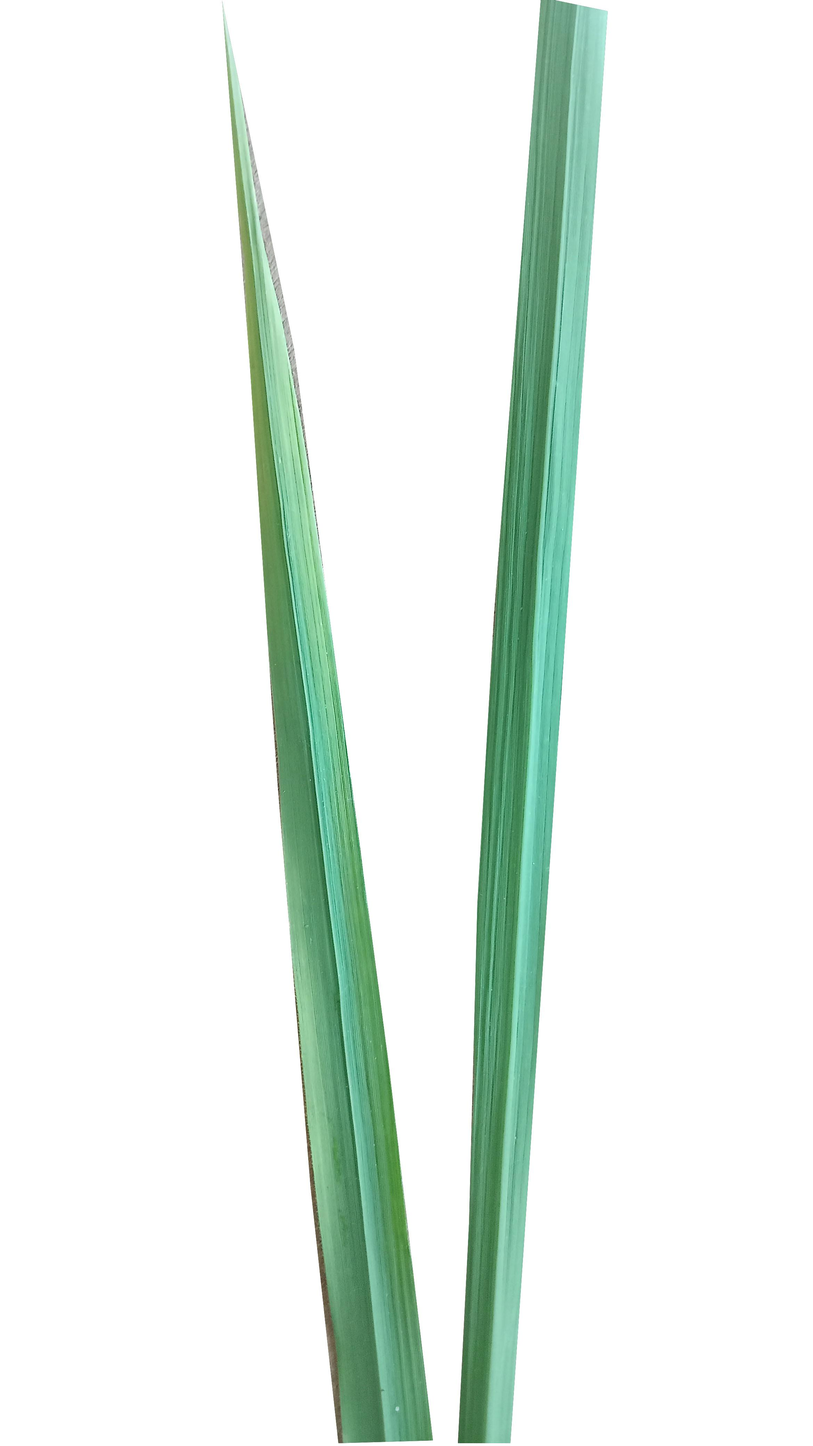Healthy: (203, 19, 440, 1446), (460, 0, 627, 1446)
